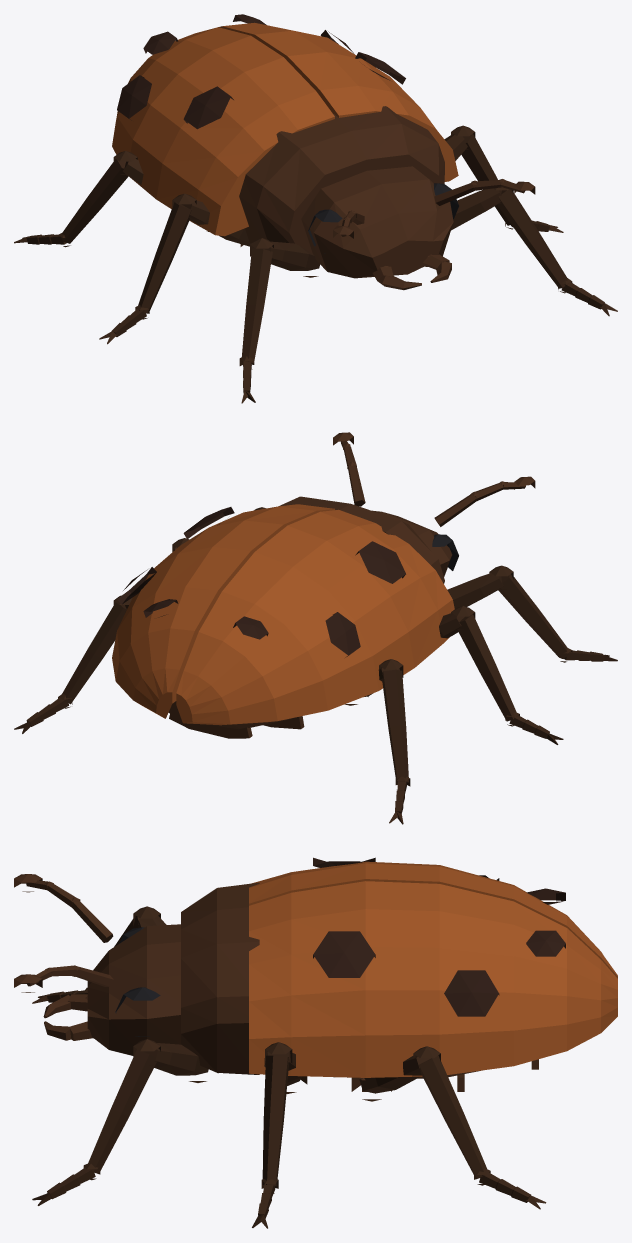
File: mini_beetle.glb
3 renders of one model, top to bottom at view 1: azimuth 30°, elevation 25°; view 2: azimuth 150°, elevation 25°; view 3: azimuth 270°, elevation 25°, orthographic. The views are drawn at different scales.
Parts seen in each view (by area): view 1: BeetlePlate_01, ThoraxCore, HeadBase001, BeetlePlate_00, elytra_spot_01, Tibia001, Tibia003, Tibia000, Tibia005, Femur001, Femur000, Tibia002 (+2 smaller); view 2: BeetlePlate_01, BeetlePlate_00, elytra_spot_01, Tibia005, Tibia003, ThoraxCore, Tibia004, Tibia001, elytra_spot_00, Femur001, HeadBase001, BeetleSternite_02; view 3: BeetlePlate_00, ThoraxCore, HeadBase001, BeetlePlate_01, elytra_spot_00, Tibia002, Tibia000, Tibia004, Femur000, Femur004, elytra_spot_01, AntSeg1003 (+2 smaller).
Part boxes in pixels (x1,y1,x2,y2): BeetlePlate_01: [112, 27, 334, 236]; ThoraxCore: [239, 106, 444, 253]; HeadBase001: [301, 166, 453, 278]; BeetlePlate_00: [218, 22, 458, 181]; elytra_spot_01: [117, 31, 233, 129]; Tibia001: [241, 248, 272, 363]; Tibia003: [138, 202, 191, 313]; Tibia000: [497, 189, 568, 288]; Tibia005: [61, 159, 128, 243]; Femur001: [253, 241, 319, 270]; Femur000: [451, 188, 501, 230]; Tibia002: [461, 134, 511, 225]; BeetlePlate_01: [176, 509, 454, 725]; BeetlePlate_00: [112, 504, 334, 718]; elytra_spot_01: [233, 541, 405, 657]; Tibia005: [382, 669, 408, 783]; Tibia003: [457, 614, 517, 721]; ThoraxCore: [279, 496, 444, 583]; Tibia004: [62, 602, 126, 704]; Tibia001: [498, 574, 569, 658]; elytra_spot_00: [117, 507, 234, 617]; Femur001: [447, 573, 503, 608]; HeadBase001: [372, 510, 452, 576]; BeetleSternite_02: [169, 714, 252, 738]; BeetlePlate_00: [249, 881, 617, 1077]; ThoraxCore: [181, 882, 259, 1074]; HeadBase001: [87, 924, 180, 1055]; BeetlePlate_01: [249, 861, 617, 978]; elytra_spot_00: [313, 930, 565, 1016]; Tibia002: [262, 1055, 288, 1185]; Tibia000: [87, 1049, 156, 1173]; Tibia004: [418, 1055, 486, 1179]; Femur000: [143, 1043, 208, 1075]; Femur004: [359, 1055, 430, 1093]; elytra_spot_01: [313, 857, 565, 904]; AntSeg1003: [71, 899, 113, 942].
Size of the model in its own units: 2.83 by 1.16 by 2.85.
